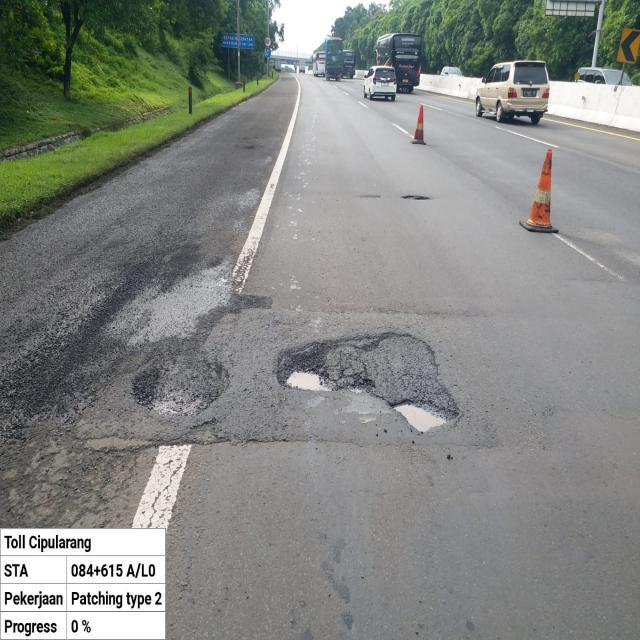Buraco: (129, 356, 235, 419), (274, 338, 343, 394), (386, 397, 462, 436), (343, 372, 378, 396), (399, 194, 433, 202)
